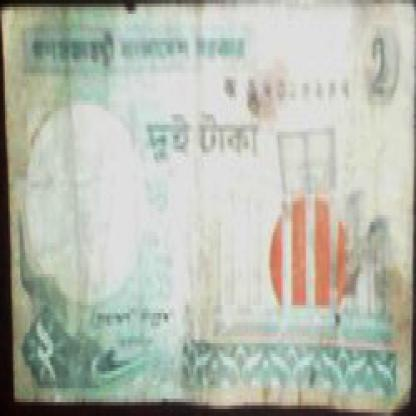two taka: (348, 28, 409, 107), (24, 312, 74, 388)
